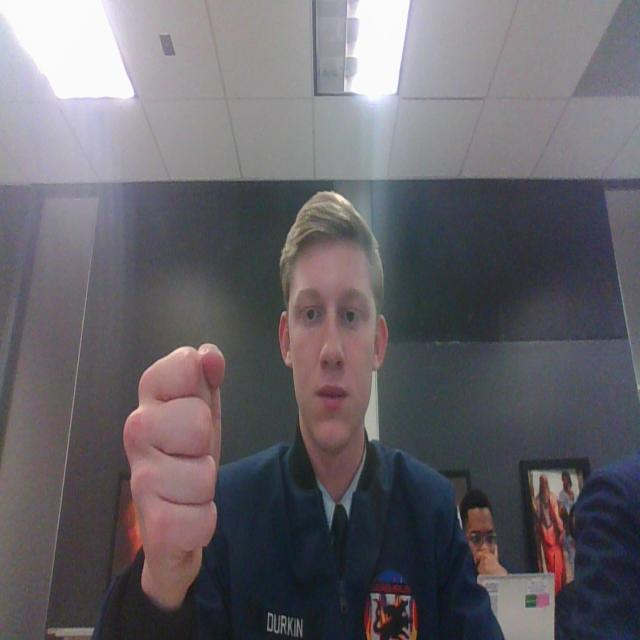rock: (115, 332, 232, 618)
